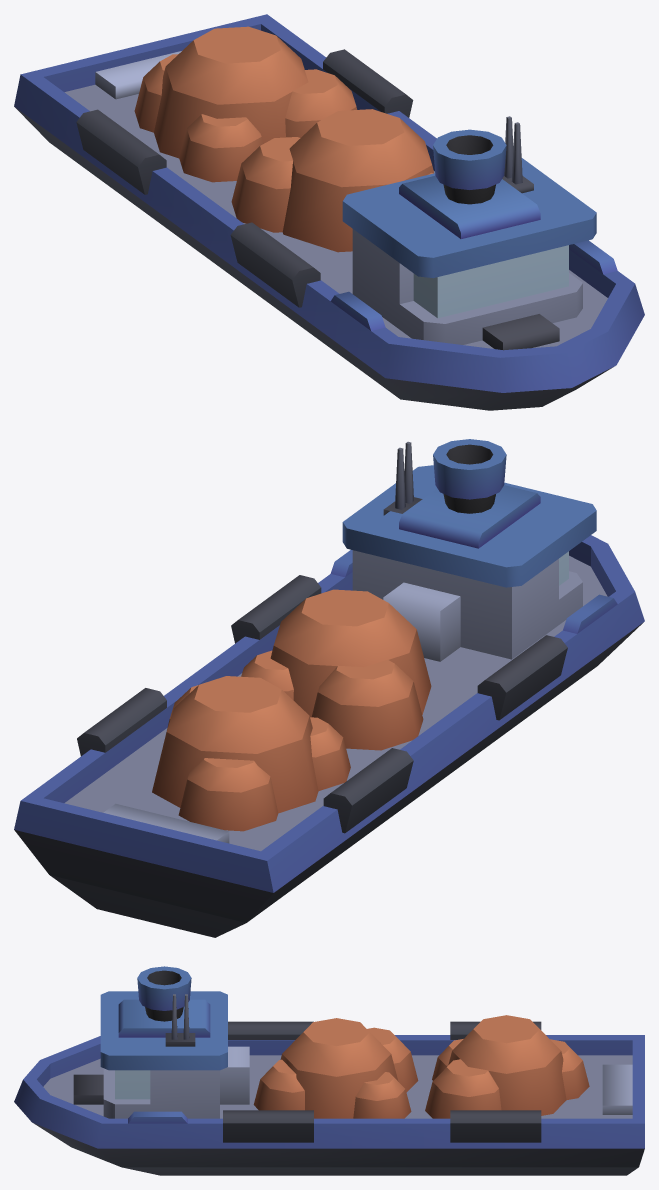
File: navio-granel.glb
3 views of the same model, one above another, from view 1: azimuth 30°, elevation 25°; view 2: azimuth 150°, elevation 25°; view 3: azimuth 270°, elevation 25° (orthographic). The views are drawn at different scales.
Visible parts, largest first — view 1: modelo; view 2: modelo; view 3: modelo.
Part boxes in pixels (box(x1,y1,x2,y2)): modelo: box(14, 14, 644, 410); modelo: box(14, 439, 644, 937); modelo: box(14, 966, 644, 1175).
Size of the model in its own units: 1.95 by 1.64 by 5.25.
